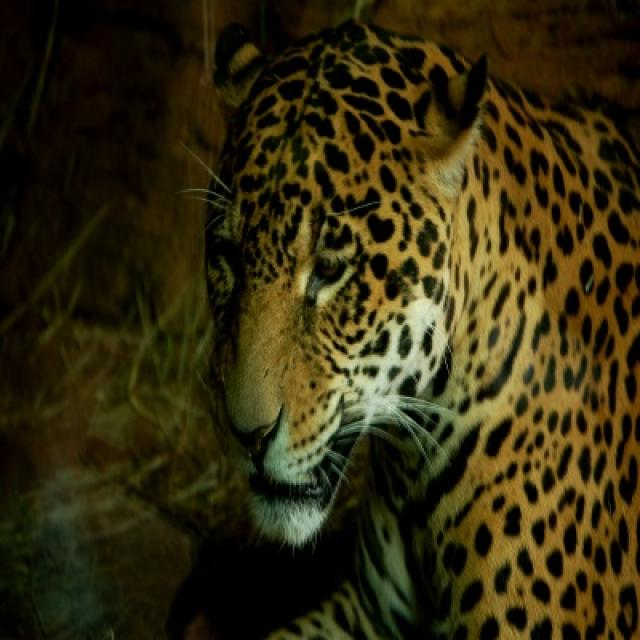Jaguar: (171, 21, 638, 638)
